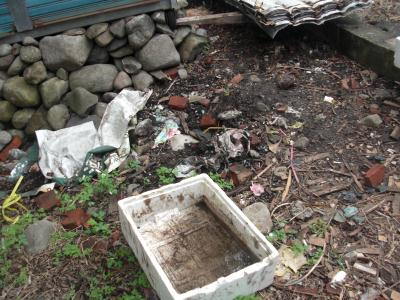plastic_bag: (36, 122, 129, 177)
styrofoam: (111, 170, 280, 299)
